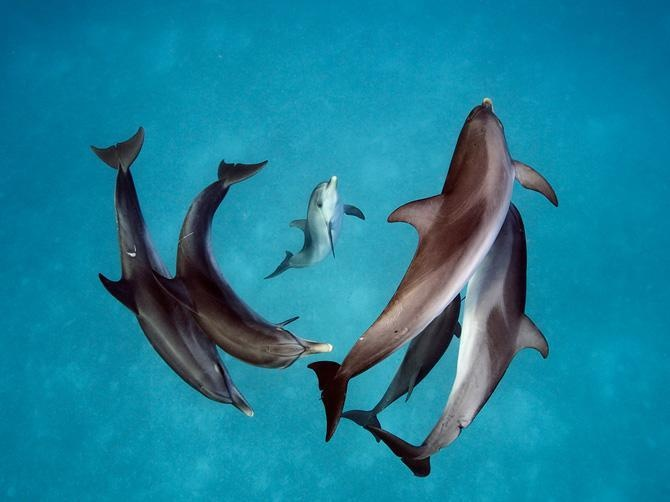fish: (306, 86, 560, 444), (74, 126, 259, 420), (381, 200, 553, 480), (153, 152, 337, 375), (339, 289, 468, 441), (265, 164, 367, 300)
